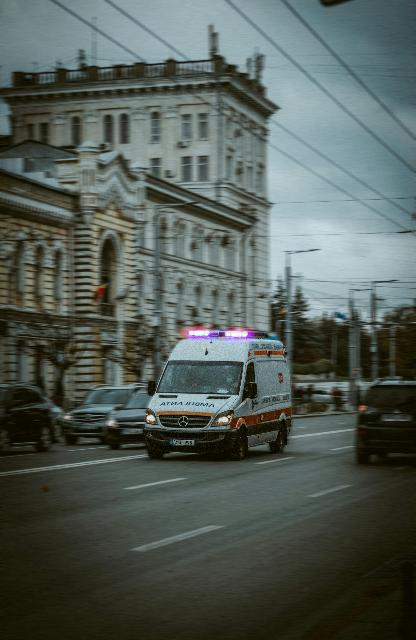ambulance: (143, 324, 296, 460)
